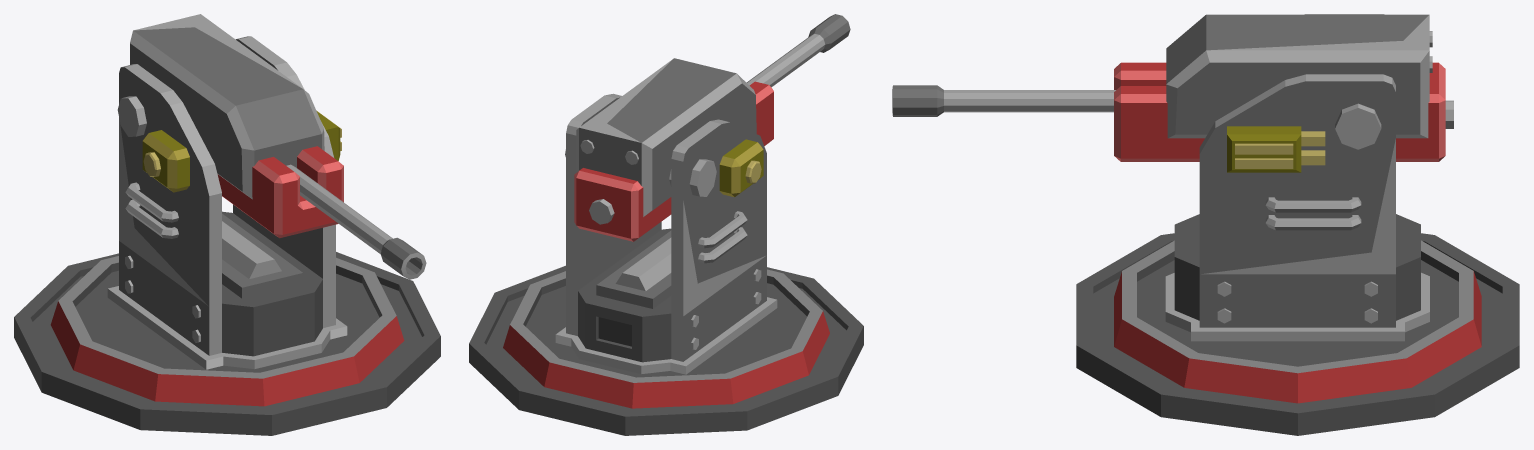
File: tower_machinegun_red_1.fbx
3 views of the same model, side by side, from view 1: azimuth 30°, elevation 25°; view 2: azimuth 150°, elevation 25°; view 3: azimuth 270°, elevation 25° (orthographic). The views are drawn at different scales.
Visible parts, largest first — view 1: top_machinegun_red_1, tower_machinegun_red_1; view 2: top_machinegun_red_1, tower_machinegun_red_1; view 3: top_machinegun_red_1, tower_machinegun_red_1.
Boxes of the visible parts, x1,y1,x2,y2 form: top_machinegun_red_1: (50,14,426,406); tower_machinegun_red_1: (14,252,440,435); top_machinegun_red_1: (503,14,850,408); tower_machinegun_red_1: (469,265,863,435); top_machinegun_red_1: (892,14,1481,403); tower_machinegun_red_1: (1076,233,1519,435).
Bounding box in the file's own units: 156 × 113 × 210.
